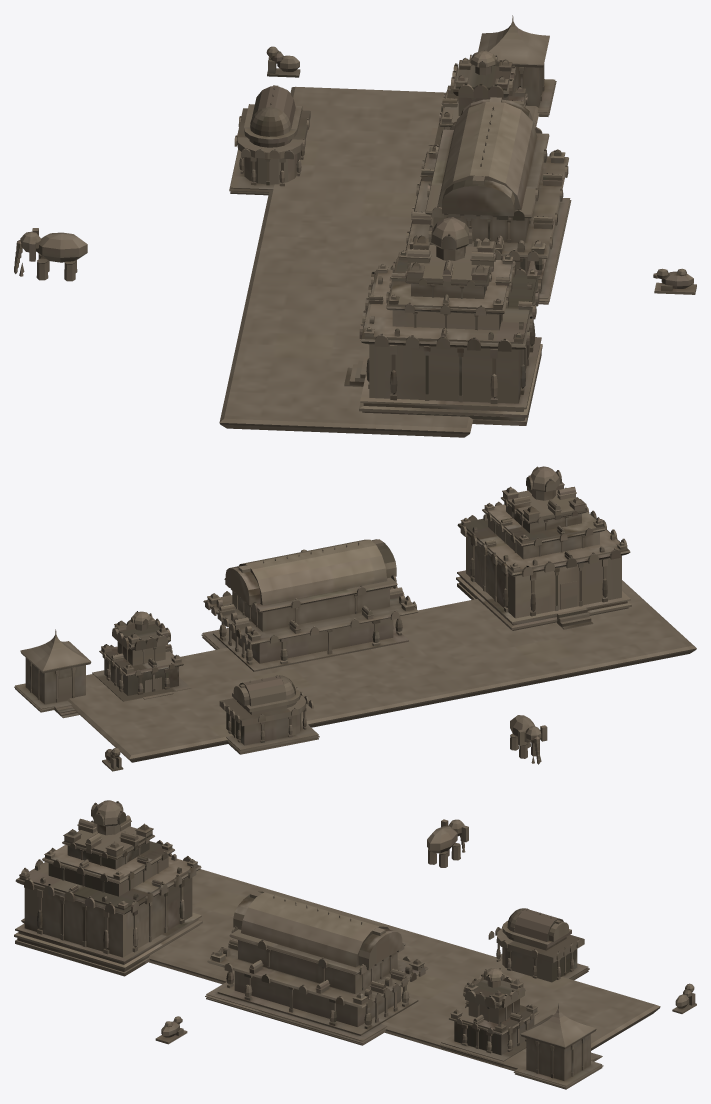
The model's file is pancha-rathas.glb.
3 renders of one model, top to bottom at view 1: azimuth 30°, elevation 25°; view 2: azimuth 150°, elevation 25°; view 3: azimuth 270°, elevation 25°, orthographic. The views are drawn at different scales.
Visible parts, largest first — view 1: st_rock, st_dharmaraja, st_bhima, st_nakula, st_animals, st_arjuna, st_draupadi; view 2: st_rock, st_bhima, st_dharmaraja, st_arjuna, st_nakula, st_draupadi, st_animals; view 3: st_bhima, st_dharmaraja, st_rock, st_arjuna, st_nakula, st_draupadi, st_animals.
Part boxes in pixels (box(x1,y1,x2,y2)): st_rock: box(219, 86, 539, 437); st_dharmaraja: box(344, 217, 542, 425); st_bhima: box(405, 97, 571, 304); st_nakula: box(229, 85, 310, 195); st_animals: box(14, 46, 696, 294); st_arjuna: box(428, 49, 536, 145); st_draupadi: box(478, 15, 556, 116); st_rock: box(67, 580, 696, 762); st_bhima: box(201, 539, 418, 671); st_dharmaraja: box(456, 466, 631, 630); st_arjuna: box(92, 611, 191, 701); st_nakula: box(219, 675, 319, 754); st_draupadi: box(14, 629, 91, 718); st_animals: box(102, 549, 547, 771); st_bhima: box(205, 891, 428, 1045); st_dharmaraja: box(14, 800, 202, 976); st_rock: box(21, 869, 660, 1071); st_arjuna: box(440, 968, 539, 1066); st_nakula: box(488, 908, 589, 982); st_draupadi: box(513, 1004, 603, 1089); st_animals: box(155, 819, 696, 1044).
Bounding box in the file's own units: 41.12 × 11.3 × 49.93.
1 material, 1 textured.
